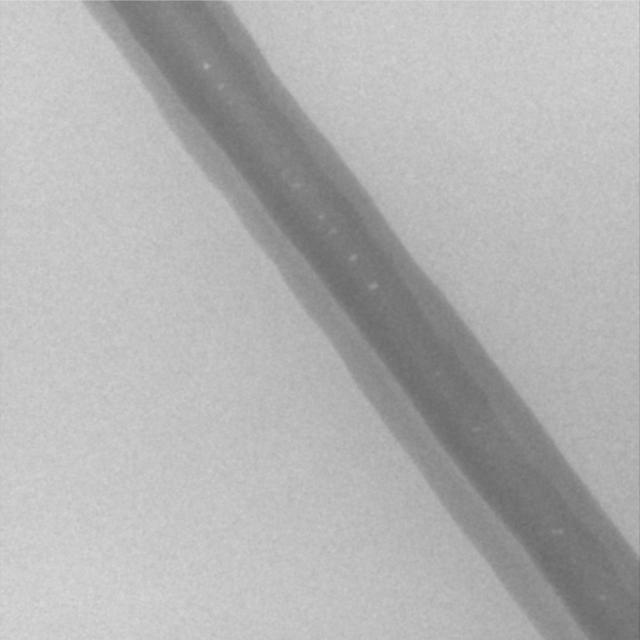air hole: (550, 526, 564, 537), (368, 280, 378, 290), (348, 253, 357, 263), (201, 60, 209, 71), (598, 592, 606, 602), (316, 212, 323, 221), (216, 82, 223, 90)
